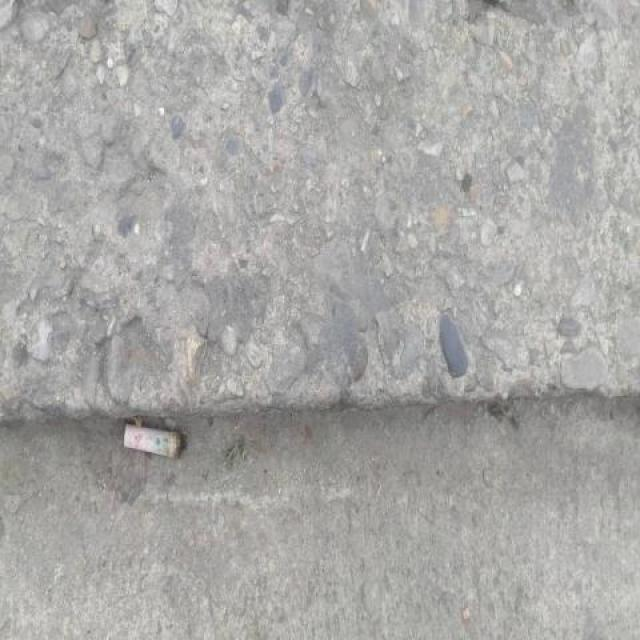non-organic waste: (121, 419, 188, 462)
